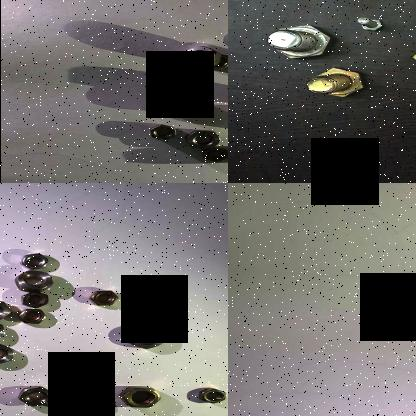Bolts: (299, 64, 369, 102), (348, 11, 388, 35)
NUTS: (118, 384, 165, 410), (10, 268, 56, 294), (178, 43, 222, 69), (151, 92, 194, 116), (179, 128, 225, 150), (17, 386, 55, 410), (125, 328, 165, 350), (74, 390, 108, 412), (197, 142, 228, 166), (14, 252, 50, 272), (18, 290, 51, 310), (12, 308, 48, 326), (194, 387, 228, 406), (148, 121, 176, 144), (203, 51, 228, 75), (53, 390, 81, 410), (89, 288, 118, 306), (0, 342, 13, 368), (0, 298, 9, 322)
